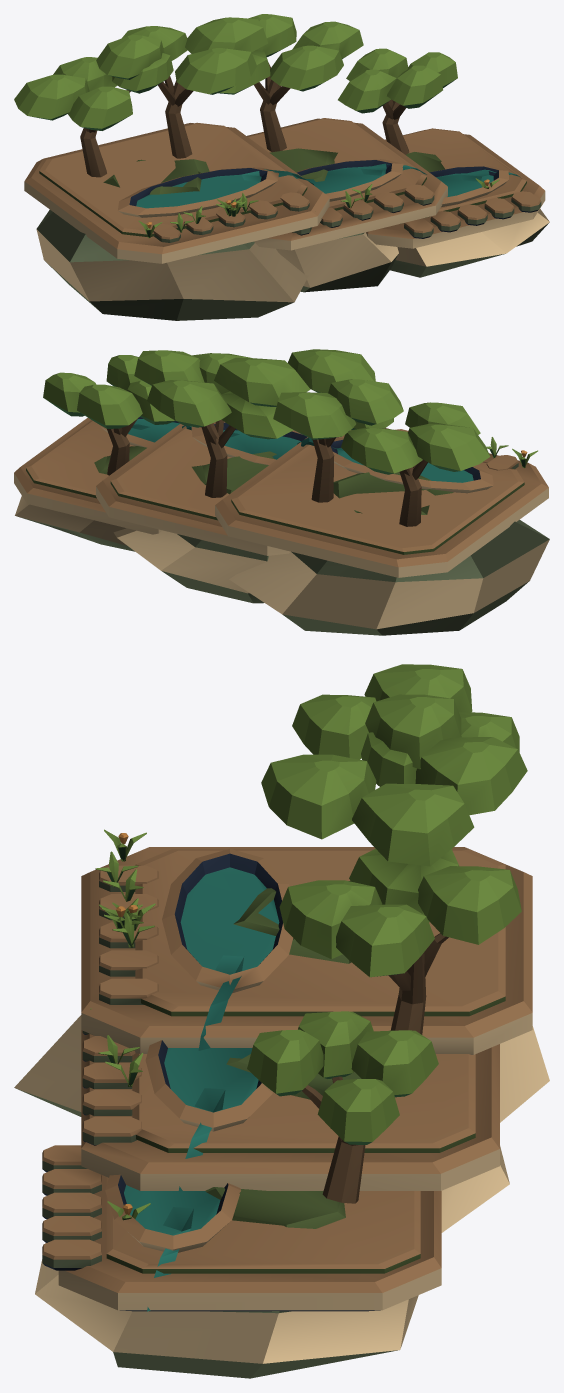
The model's file is heliostat-garden-spring.glb.
3 renders of one model, top to bottom at view 1: azimuth 30°, elevation 25°; view 2: azimuth 150°, elevation 25°; view 3: azimuth 270°, elevation 25°, orthographic. The views are drawn at different scales.
Visible parts, largest first — view 1: heliostat-garden-spring; view 2: heliostat-garden-spring; view 3: heliostat-garden-spring.
Part boxes in pixels (bbox=[...]): heliostat-garden-spring: bbox=[14, 14, 549, 320]; heliostat-garden-spring: bbox=[14, 349, 549, 635]; heliostat-garden-spring: bbox=[14, 664, 549, 1378].
Size of the model in its own units: 12.91 by 5.78 by 7.17.
